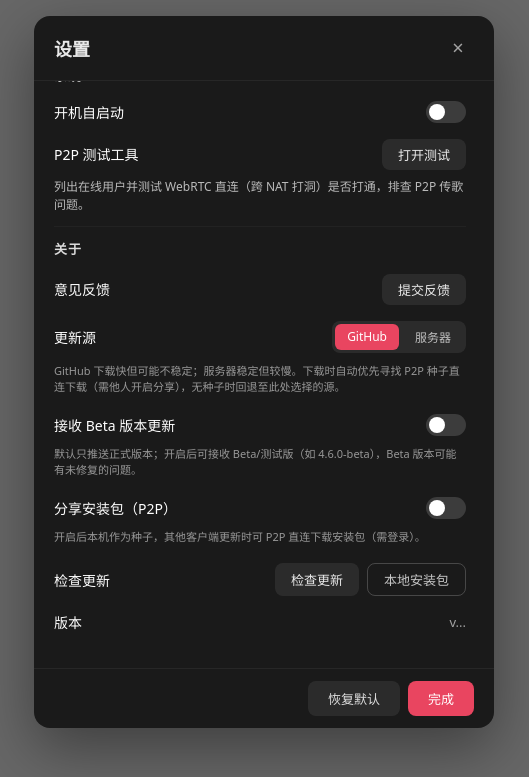
Test case: SettingsPanel.vue › 开启分享安装包：未登录时应回滚开关并提示需登录
This screenshot has width=529, height=777.
(page scrolled)
Click the checkbox in the row of "分享安装包（P2P）". click: (446, 508)
box: top-left (426, 497), bottom-right (466, 519)
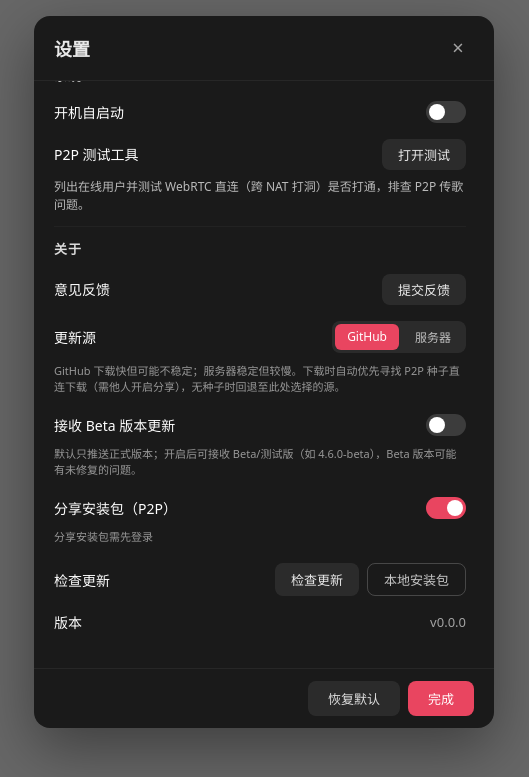
Expected: the text "分享安装包需先登录" is shown, top-left (54, 529), bottom-right (153, 544)
